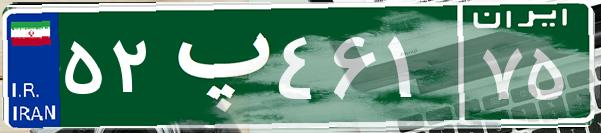1: (385, 28, 445, 110)
2: (110, 28, 158, 105)
4: (273, 28, 330, 110)
5: (57, 26, 110, 107), (525, 38, 570, 115)
6: (330, 28, 385, 110)
7: (475, 38, 525, 113)
پ: (158, 15, 273, 115)
